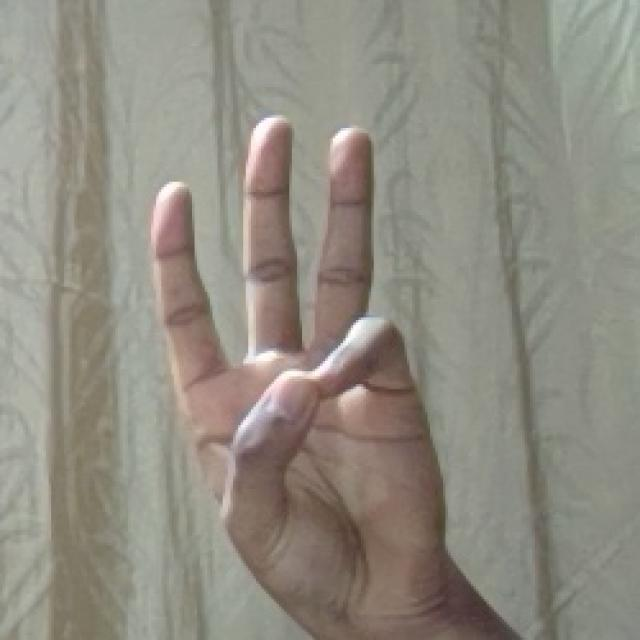Numeric-6: (126, 104, 458, 595)
